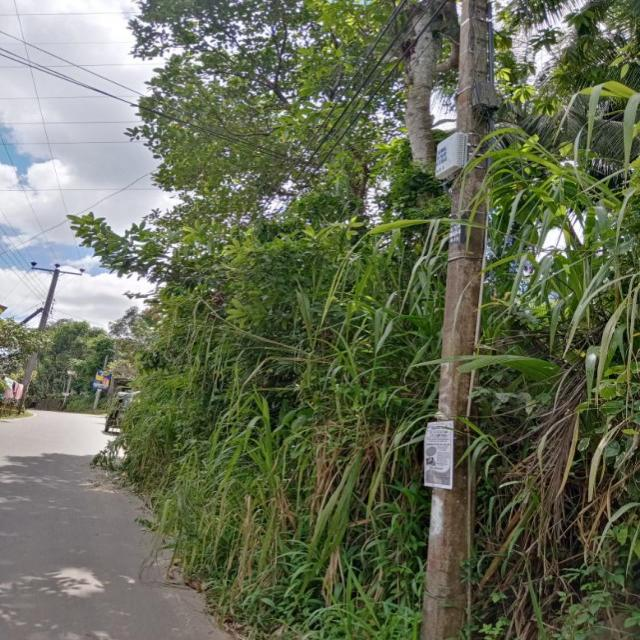light_pole: (414, 0, 498, 640)
